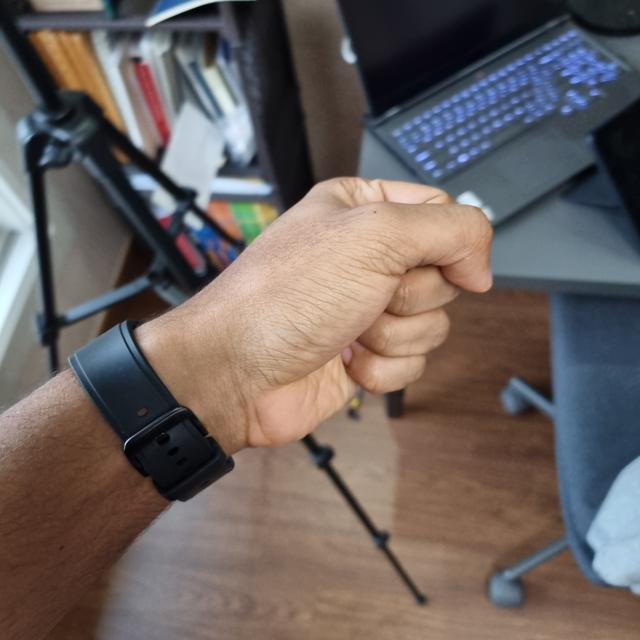Rock: (143, 177, 492, 447)
